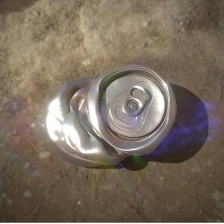can: (40, 61, 178, 170)
